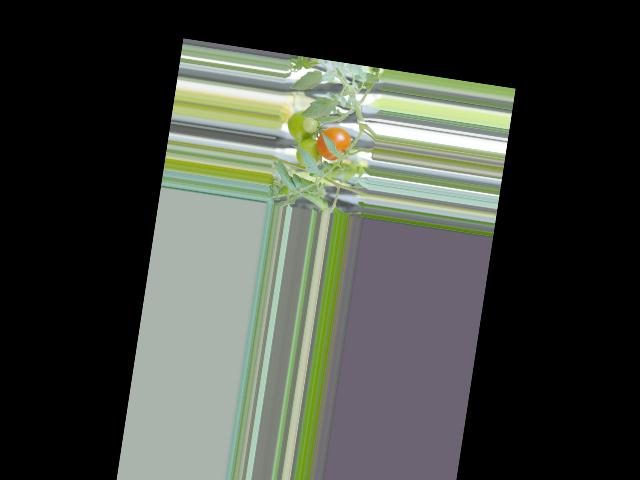tomato: (314, 123, 353, 162)
